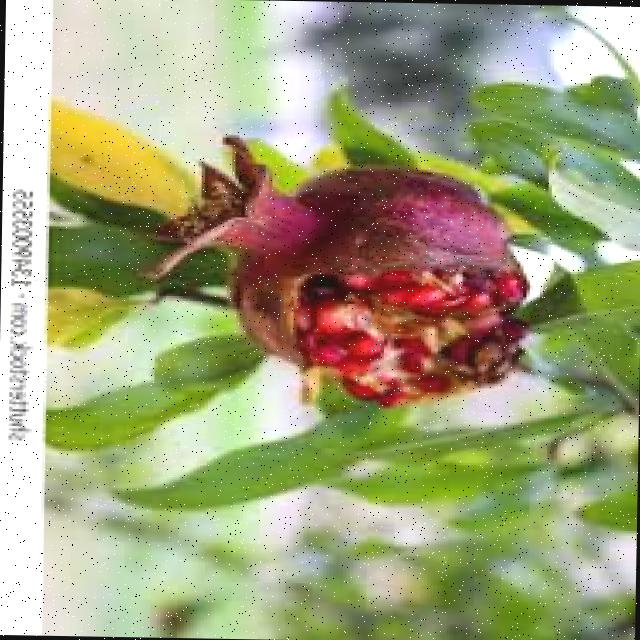overripe: (135, 131, 548, 412)
